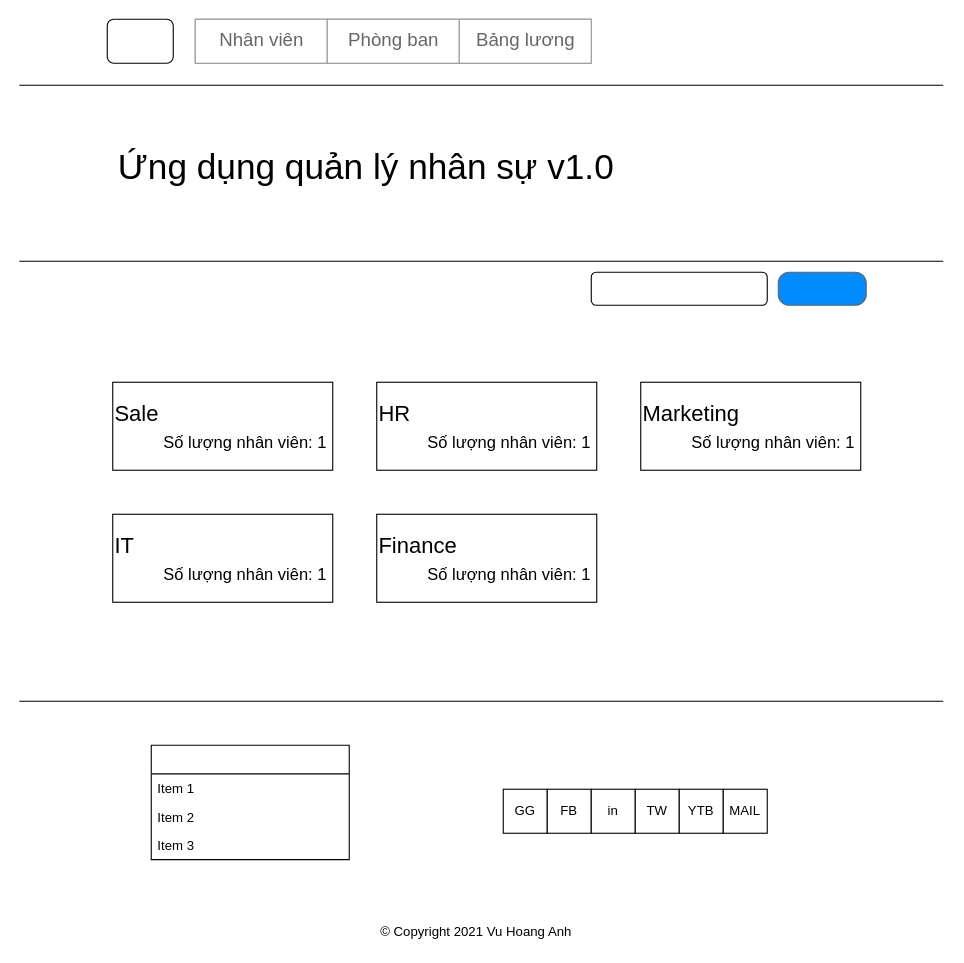
This 964x963 diagram has some shape labels left out. The shapes that lost their labels are listed below. From the top down, each one's box as (x1, y1, x2, y2) in pixels, then its label:
(106, 18, 173, 63): LOGO
(590, 271, 767, 305): Nhập tên tìm kiếm...
(777, 271, 866, 305): Search
(150, 744, 349, 860): Our Address
